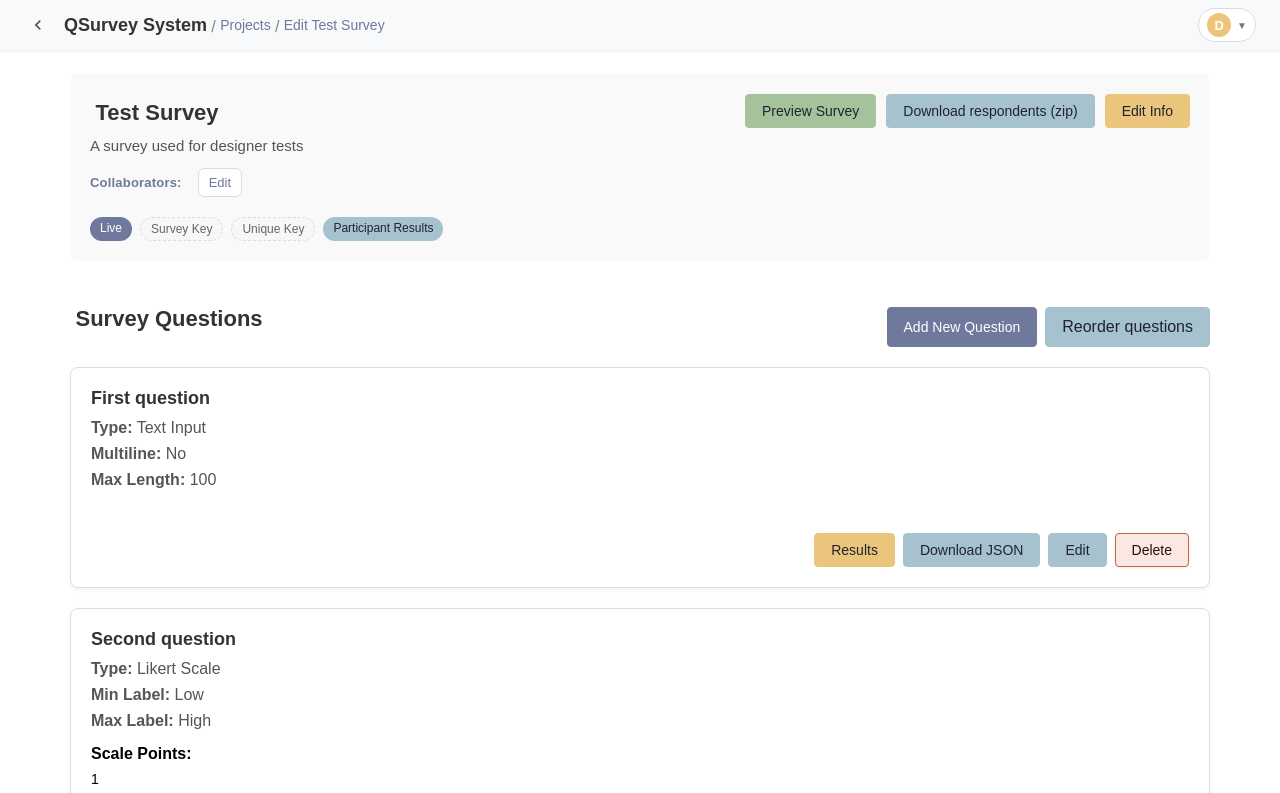
SurveyEdit designer workflows › cancels reorder modal without saving
This screenshot has width=1280, height=793.
Expected: the heading "First question" is shown, [91,388,210,408]
Click the button "Reorder questions": point(1128, 327) [1045,307,1210,347]
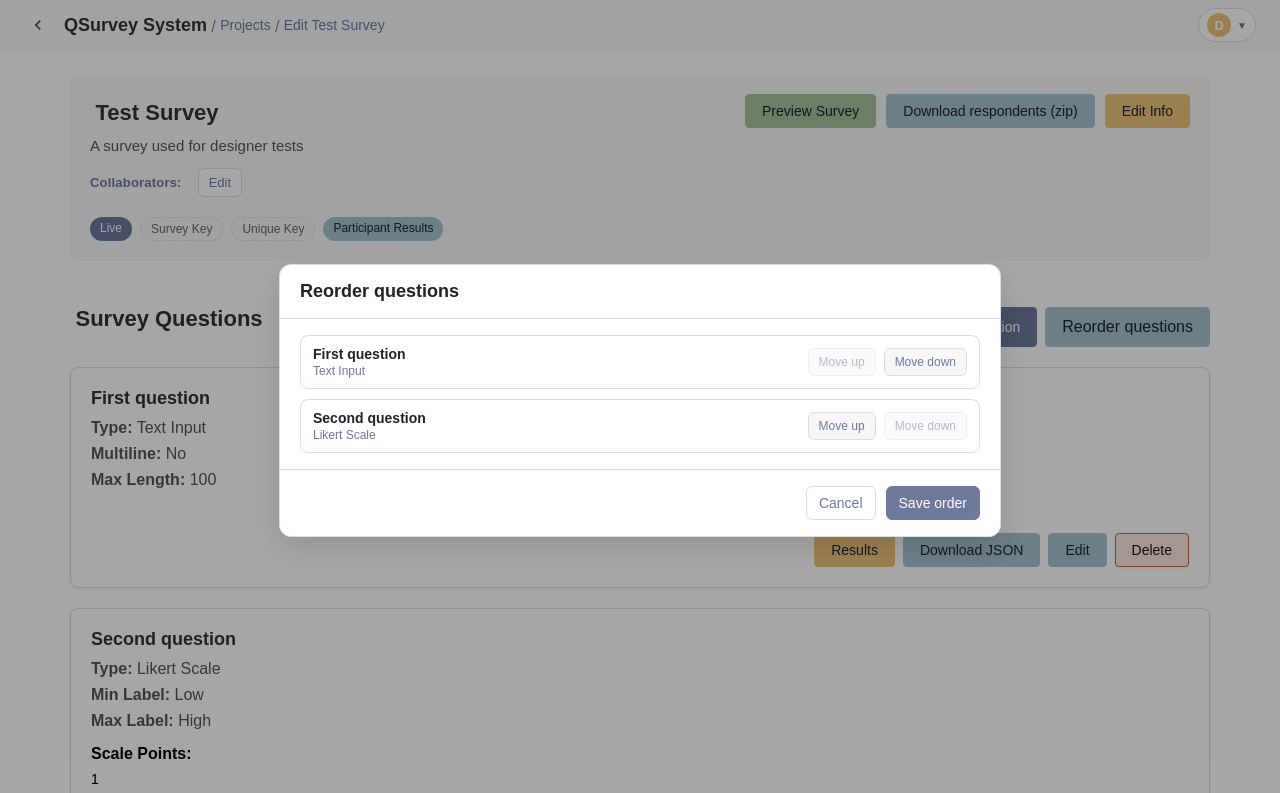
Now the button "Save order" is shown, box [886,486,980,520]
Click the button "Cancel": point(841, 502) [806,486,876,520]
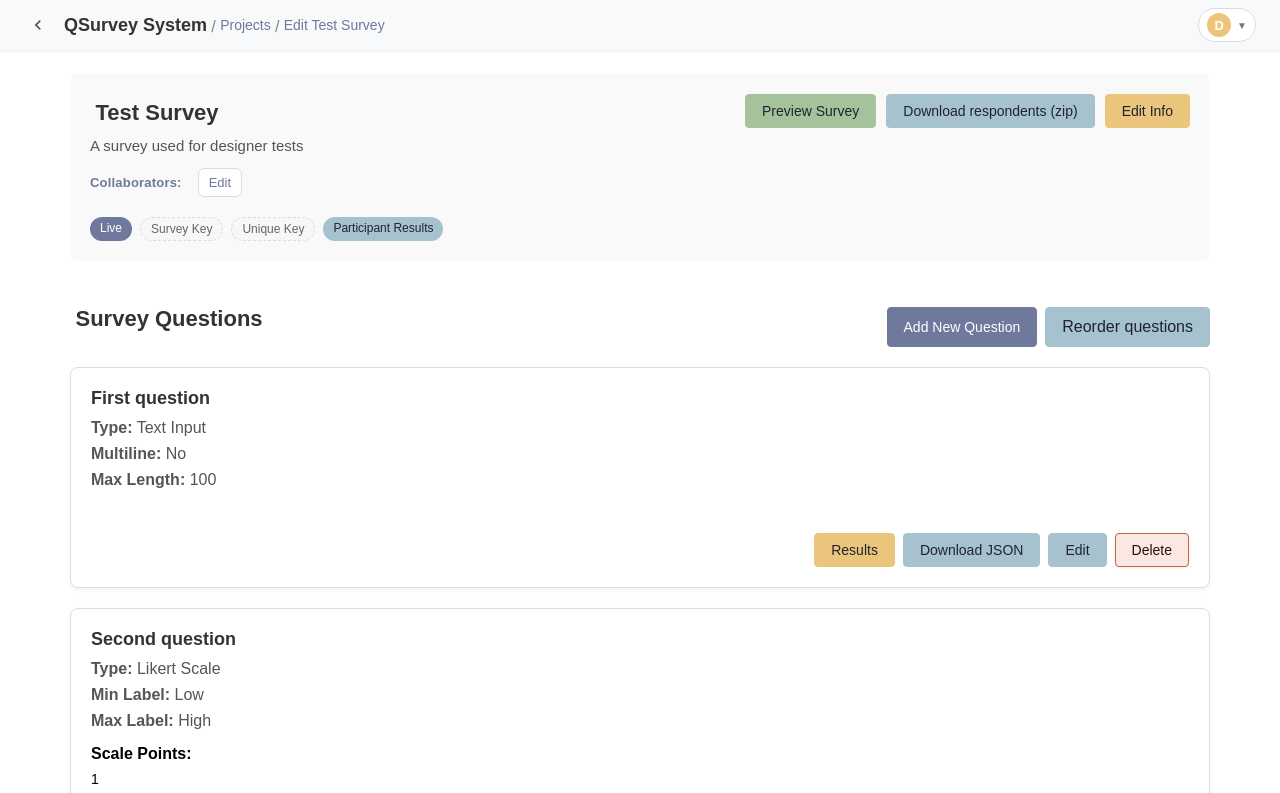
Now the button "Save order" is gone
